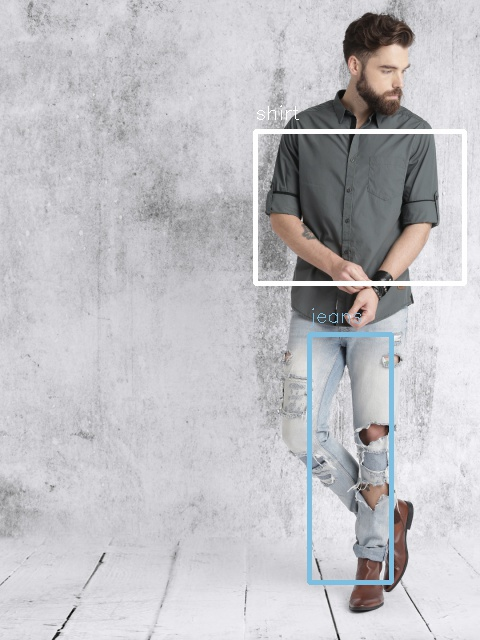jeans: (280, 324, 395, 565)
shirt: (272, 91, 443, 323)
